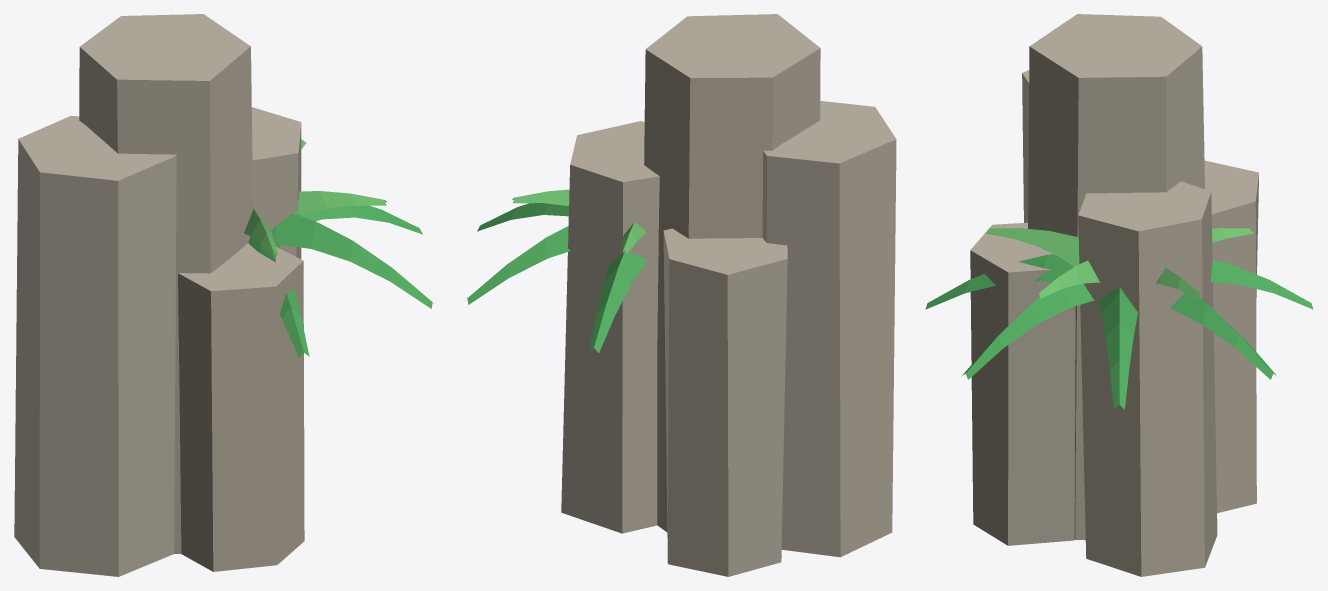
Rendered from chao-garden-props.glb.
3 renders of one model, left to right at view 1: azimuth 30°, elevation 25°; view 2: azimuth 150°, elevation 25°; view 3: azimuth 270°, elevation 25°, orthographic. The views are drawn at different scales.
Parts seen in each view (by area): view 1: CliffColumn, Palm; view 2: CliffColumn, Palm; view 3: CliffColumn, Palm.
Boxes of the visible parts, box(x1,y1,x2,y2) form: CliffColumn: box(14, 14, 304, 576); Palm: box(134, 139, 434, 357); CliffColumn: box(561, 14, 896, 576); Palm: box(467, 189, 647, 352); CliffColumn: box(970, 14, 1258, 576); Palm: box(925, 228, 1313, 409).
Bounding box in the file's own units: 2.85 × 3.32 × 2.45.
